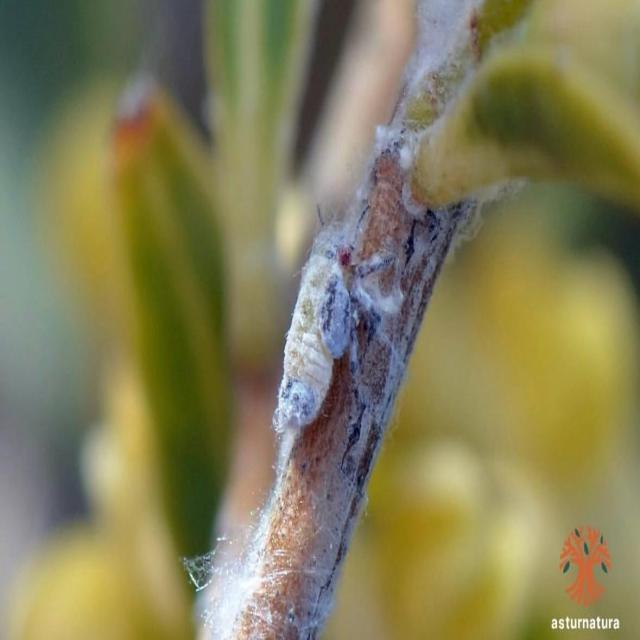Psyllid: (192, 0, 518, 639)
